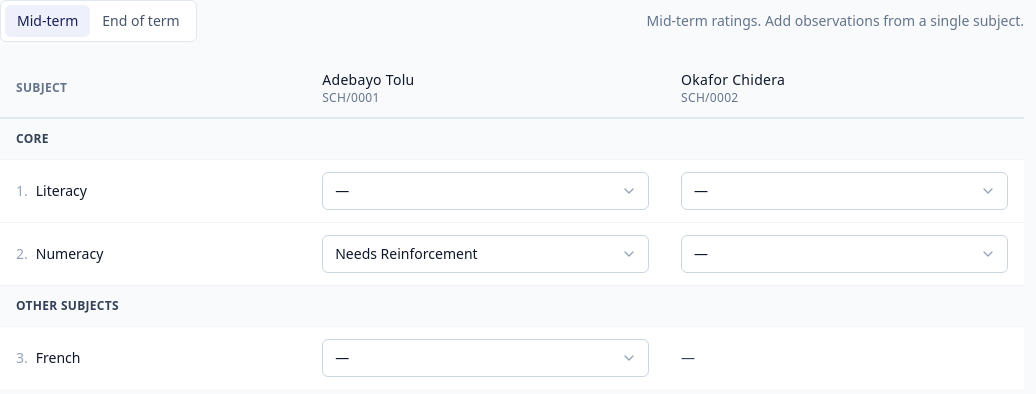
Scenario: AllSubjectsEntryGrid › shows the selected period's values and switches on the toggle
Check: the dropdown named "Mid-term rating for Adebayo Tolu in Numeracy" shows "Needs Reinforcement", box [322, 235, 649, 273]
Click the radio button labelled "End of term": (141,21) [90, 5, 192, 37]
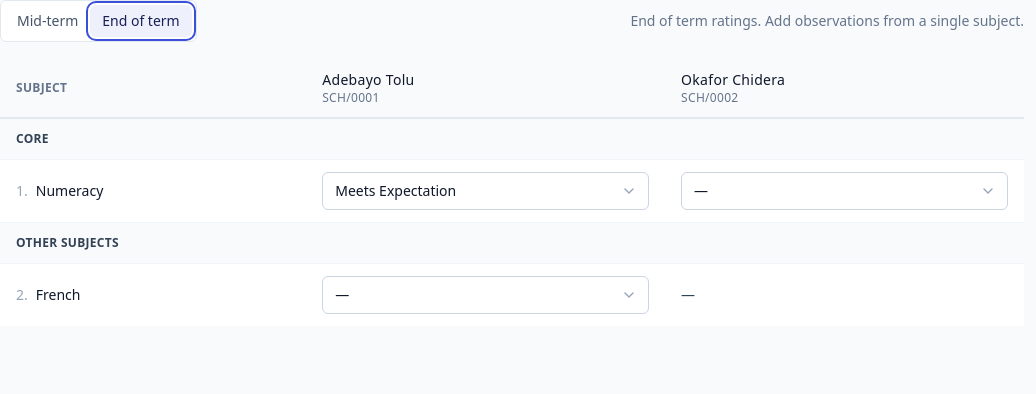
Check: the dropdown named "End of term rating for Adebayo Tolu in Numeracy" shows "Meets Expectation", box [322, 172, 649, 210]
